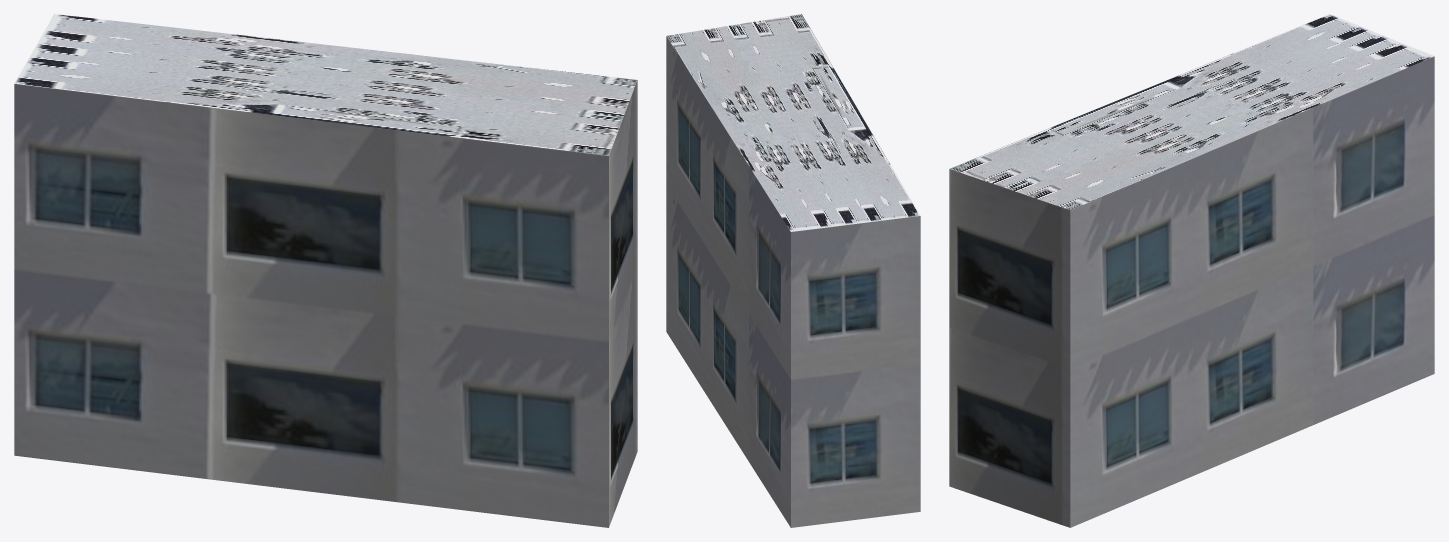
Rendered from ResTex__281.fbx.
3 views of the same model, side by side, from view 1: azimuth 30°, elevation 25°; view 2: azimuth 150°, elevation 25°; view 3: azimuth 270°, elevation 25° (orthographic). The views are drawn at different scales.
Parts seen in each view (by area): view 1: CityEngineMaterial_10_m, CityEngineMaterial_m; view 2: CityEngineMaterial_10_m, CityEngineMaterial_m; view 3: CityEngineMaterial_10_m, CityEngineMaterial_m.
Boxes of the visible parts, x1=… form: CityEngineMaterial_10_m: x1=14, y1=80, x2=637, y2=527; CityEngineMaterial_m: x1=14, y1=14, x2=637, y2=155; CityEngineMaterial_10_m: x1=666, y1=36, x2=920, y2=527; CityEngineMaterial_m: x1=666, y1=14, x2=920, y2=231; CityEngineMaterial_10_m: x1=949, y1=56, x2=1434, y2=527; CityEngineMaterial_m: x1=949, y1=14, x2=1434, y2=210.
Size of the model in its own units: 7.96 by 6 by 8.31.
Materials: 2 (2 with a texture image).
